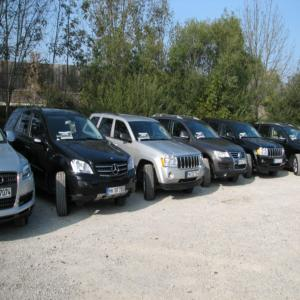Vehicle-registration-plate: (108, 185, 127, 196), (1, 189, 13, 201)
